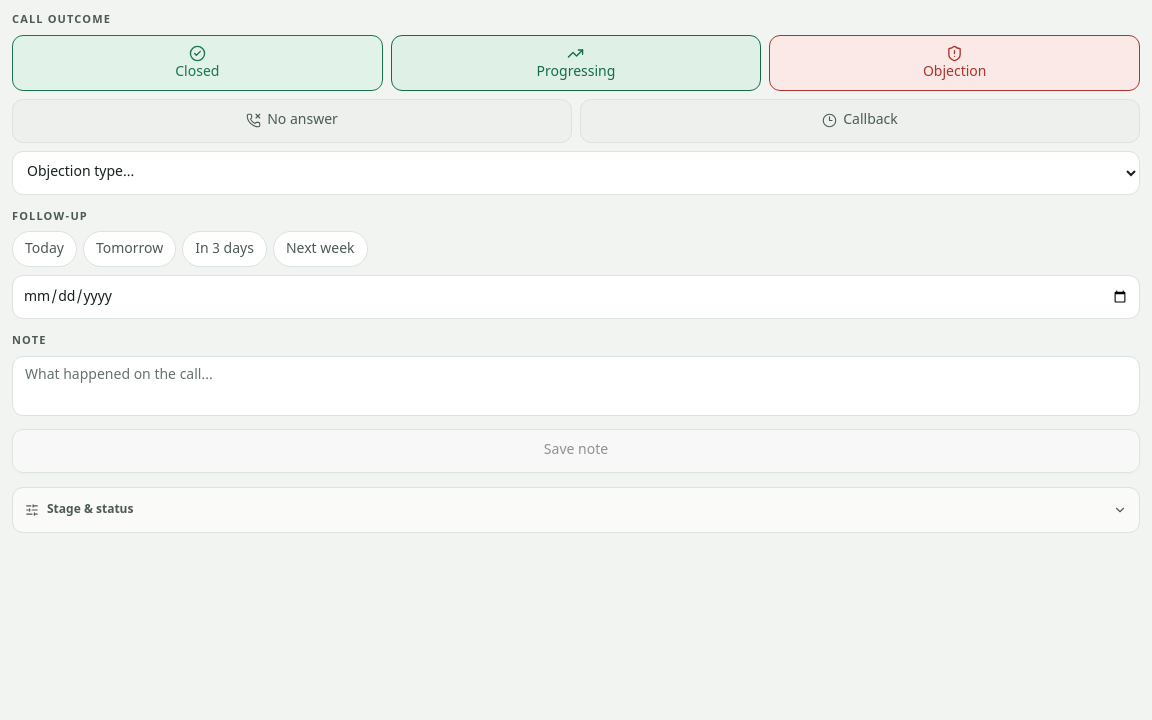
OutcomeBar › save note is gated on non-empty text and clears after saving
The width and height of the screenshot is (1152, 720).
Expected: the button "Save note" is disabled, left=12, top=428, right=1140, bottom=472
Type "Wants weekend visit" into the text box named "Note" at [576, 386], box left=12, top=356, right=1140, bottom=416
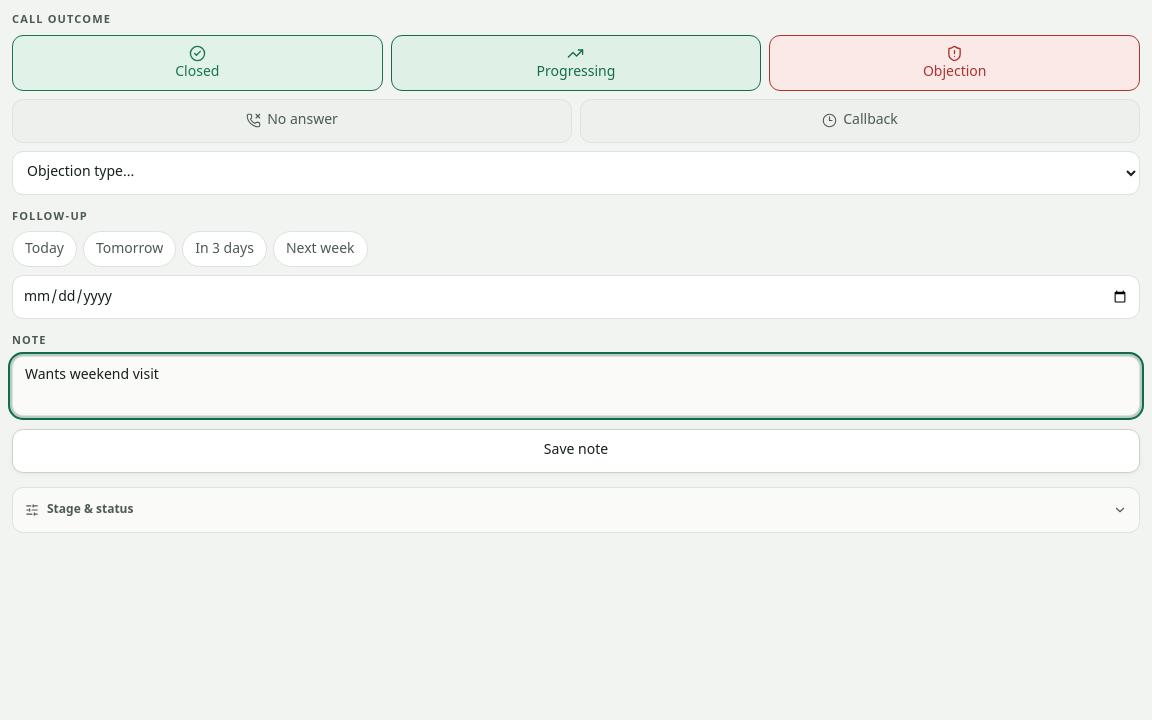
Click the button "Save note" at [576, 450], box left=12, top=428, right=1140, bottom=472
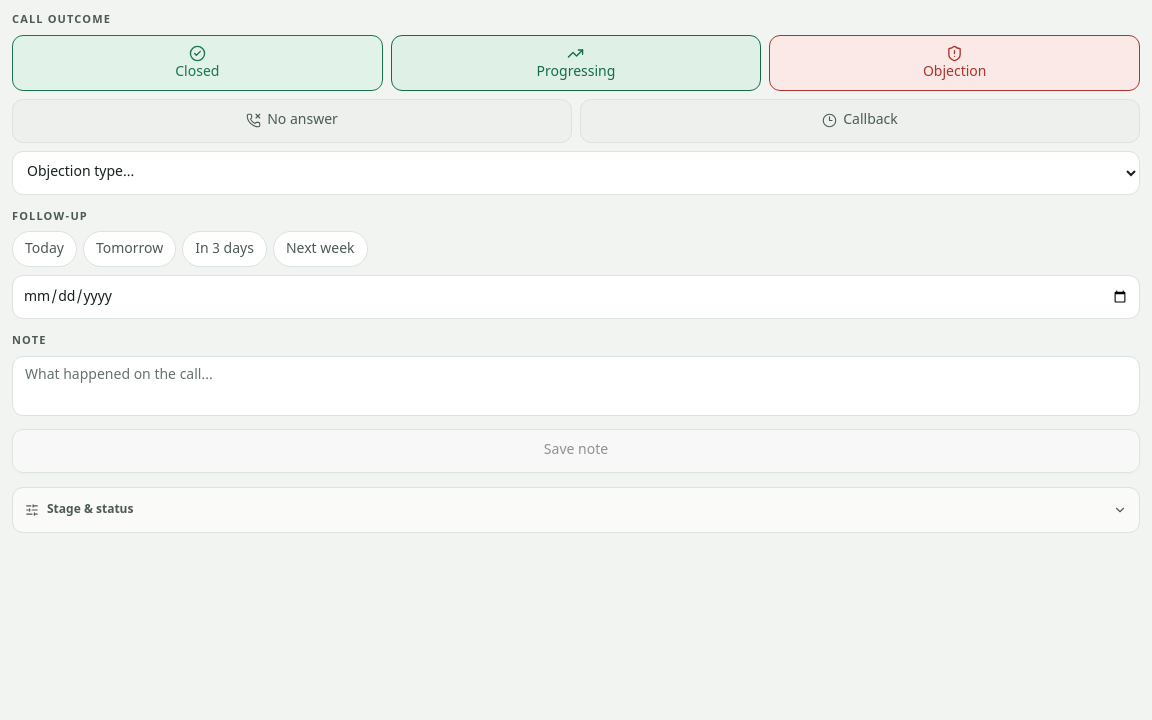
Now the button "Save note" is disabled, box left=12, top=428, right=1140, bottom=472
